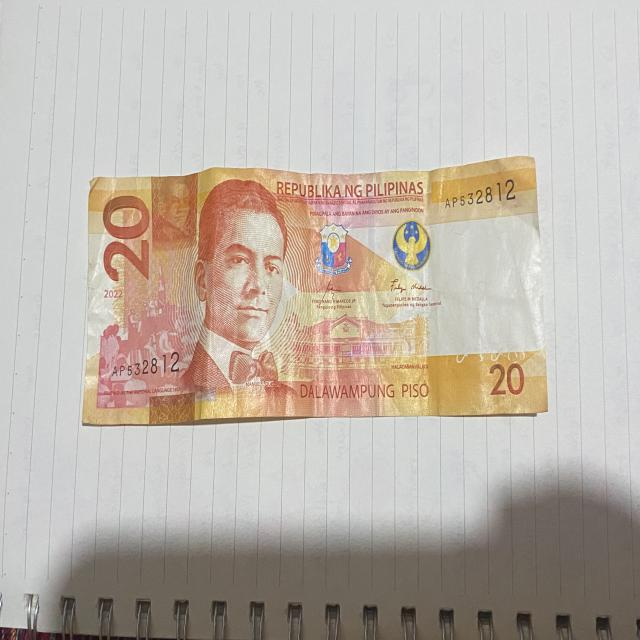concealed_value: (154, 172, 200, 251)
security_thread: (364, 179, 379, 416)
see_through_mark: (449, 336, 529, 380)
serial_number: (433, 175, 519, 220), (107, 348, 187, 393)
value: (99, 190, 152, 291)
